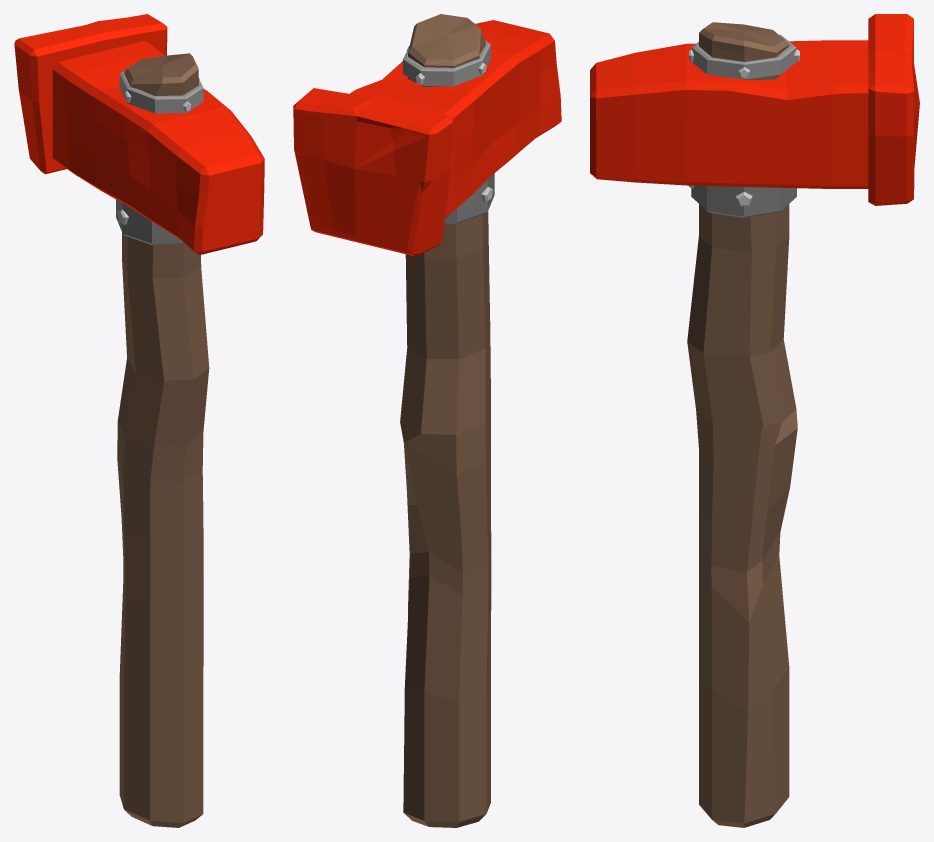
File: Hammer3_Red.fbx
3 views of the same model, side by side, from view 1: azimuth 30°, elevation 25°; view 2: azimuth 150°, elevation 25°; view 3: azimuth 270°, elevation 25° (orthographic). The views are drawn at different scales.
Visible parts, largest first — view 1: Hammer3_Red; view 2: Hammer3_Red; view 3: Hammer3_Red.
Part boxes in pixels (bbox=[...]): Hammer3_Red: bbox=[14, 14, 264, 827]; Hammer3_Red: bbox=[293, 14, 561, 827]; Hammer3_Red: bbox=[590, 14, 919, 827].
Size of the model in its own units: 10.81 by 56.86 by 21.55.
